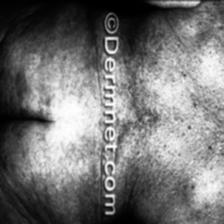Non-Cancerous Skin Condition: (118, 22, 160, 156)
